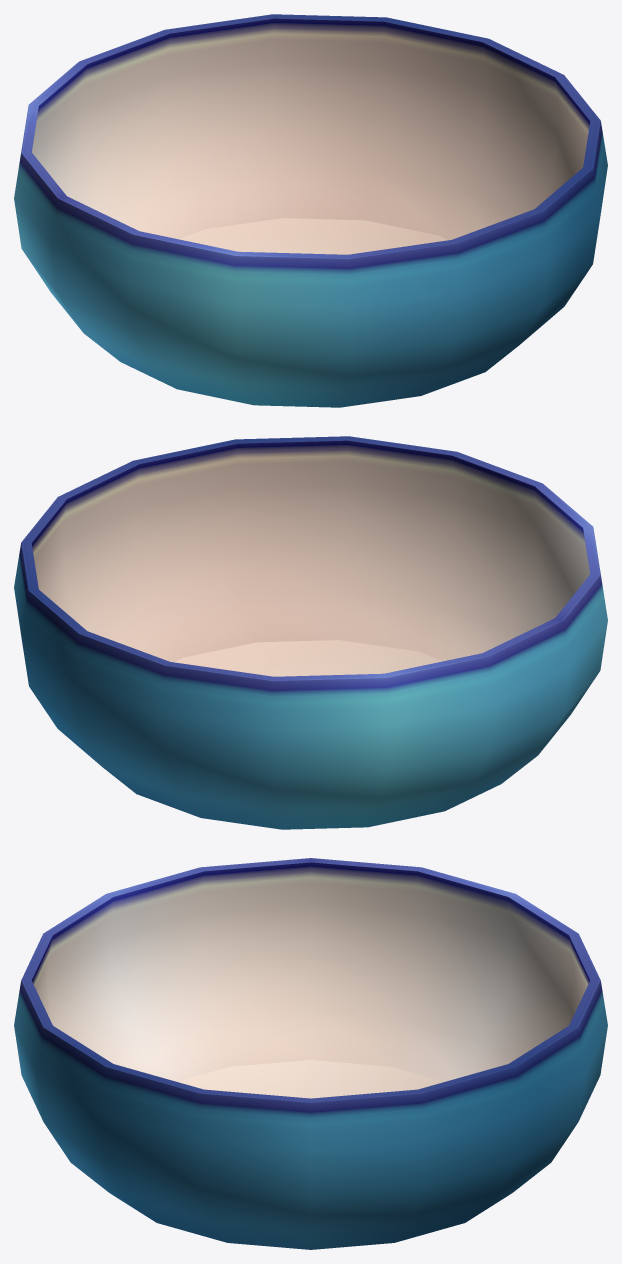
File: MaLuBian_01_maoshipen_01_UV2.FBX
3 views of the same model, one above another, from view 1: azimuth 30°, elevation 25°; view 2: azimuth 150°, elevation 25°; view 3: azimuth 270°, elevation 25° (orthographic).
Visible parts, largest first — view 1: MaLuBian_01_maoshipen_01_UV2; view 2: MaLuBian_01_maoshipen_01_UV2; view 3: MaLuBian_01_maoshipen_01_UV2.
Boxes of the visible parts, bbox=[...] form: MaLuBian_01_maoshipen_01_UV2: bbox=[14, 14, 607, 407]; MaLuBian_01_maoshipen_01_UV2: bbox=[14, 436, 607, 829]; MaLuBian_01_maoshipen_01_UV2: bbox=[14, 858, 607, 1249].
Size of the model in its own units: 223 by 73.54 by 223.
